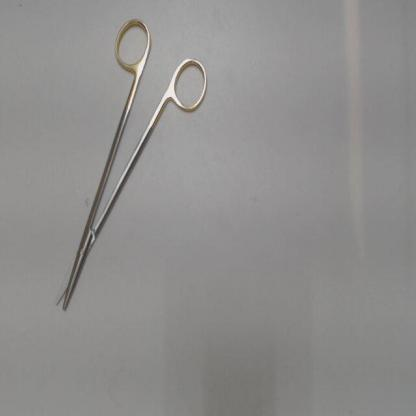7 Metzenbaum Scissors: (50, 12, 210, 320)
